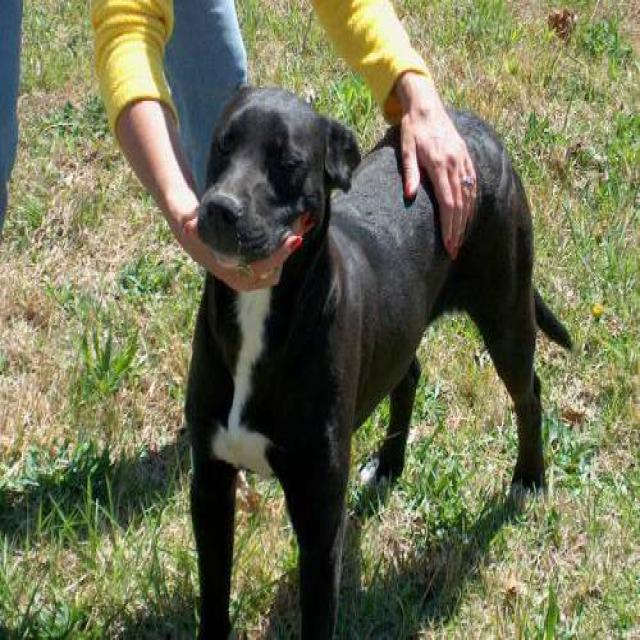dog: (183, 82, 573, 638)
